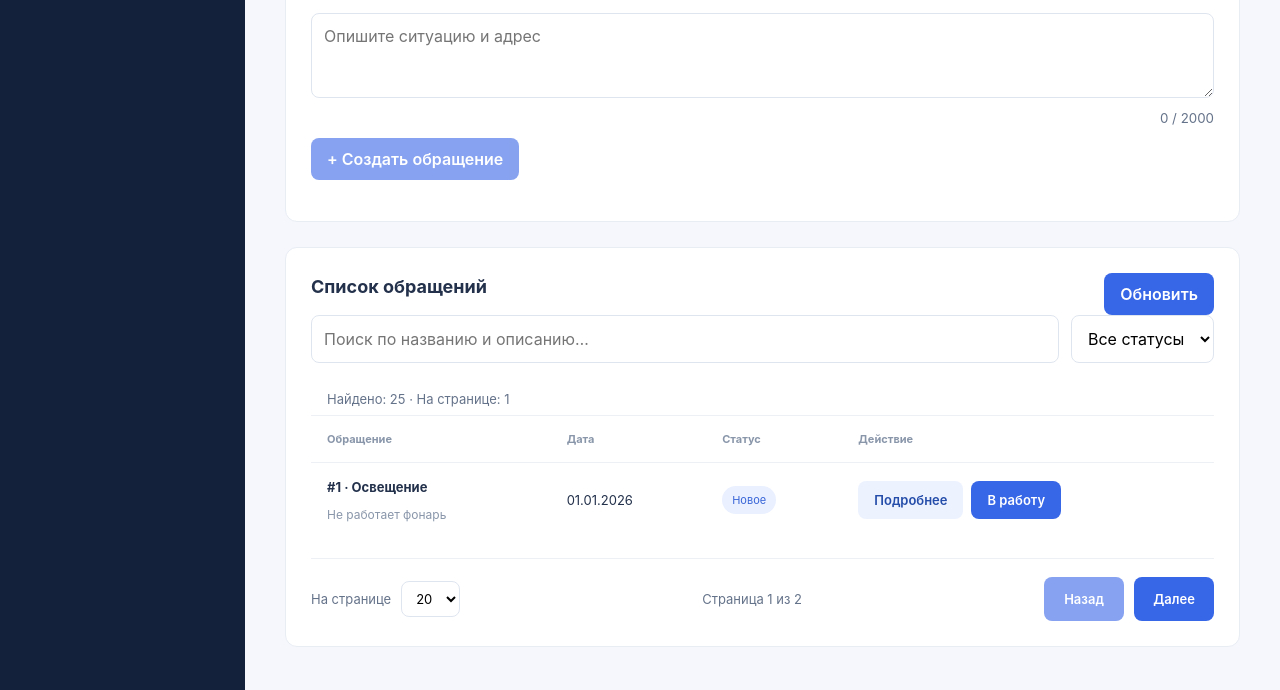
opens request details and returns keyboard focus to the row after closing
(page scrolled)
Click the button with aria-label "Подробнее: Освещение" at [911, 500], box [858,481,964,519]
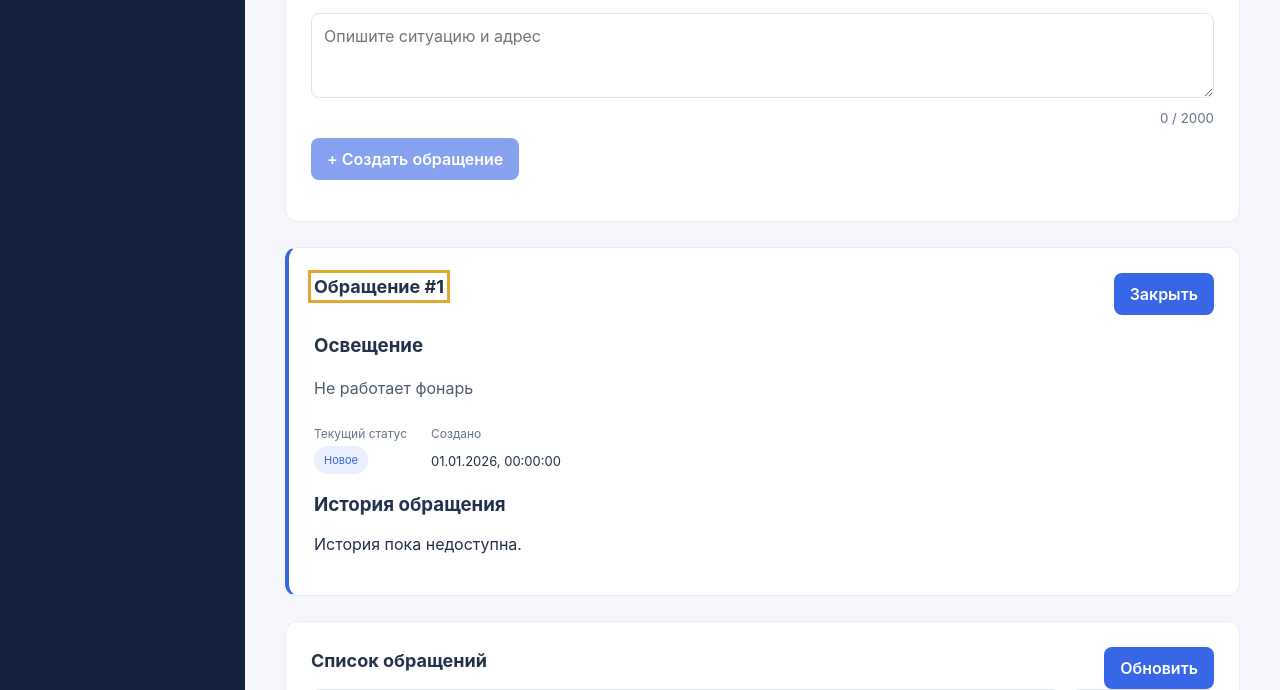
Result: the heading "История обращения" is shown at [314,493,506,516]
Click the button with aria-label "Закрыть карточку обращения" at [1164, 294], box [1114,273,1214,315]
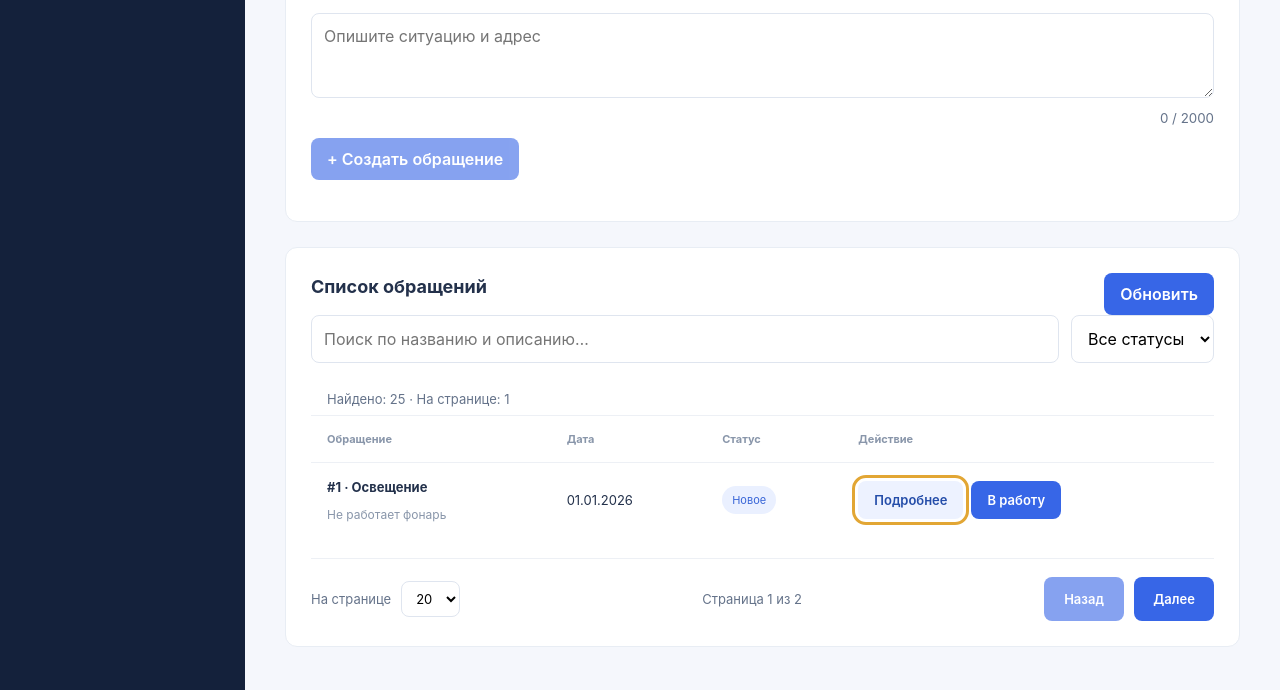
Result: the heading "Обращение #1" is gone
